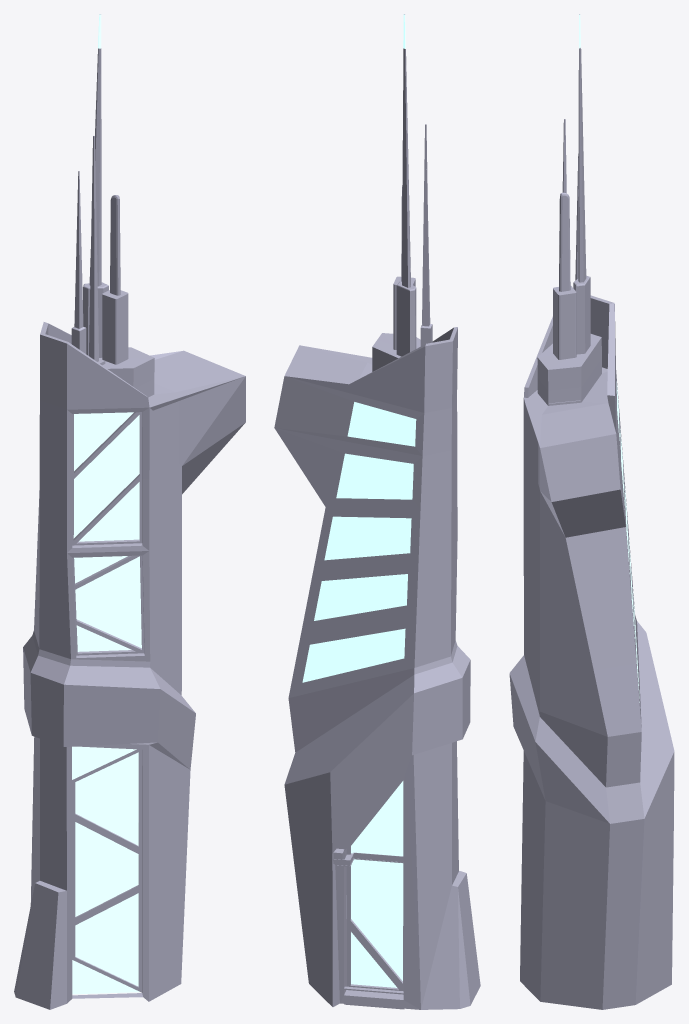
File: budova2.fbx
3 views of the same model, side by side, from view 1: azimuth 30°, elevation 25°; view 2: azimuth 150°, elevation 25°; view 3: azimuth 270°, elevation 25° (orthographic).
Parts seen in each view (by area): view 1: Cube.003; view 2: Cube.003; view 3: Cube.003.
Boxes of the visible parts, <box> form: Cube.003: <box>14,14,245,1009</box>; Cube.003: <box>274,14,480,1009</box>; Cube.003: <box>509,14,674,1009</box>.
Size of the model in its own units: 189 by 848 by 132.
